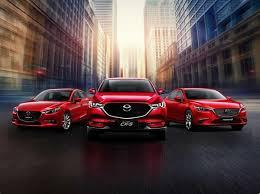mazda: (121, 102, 134, 113), (24, 111, 32, 118), (224, 108, 231, 113)
